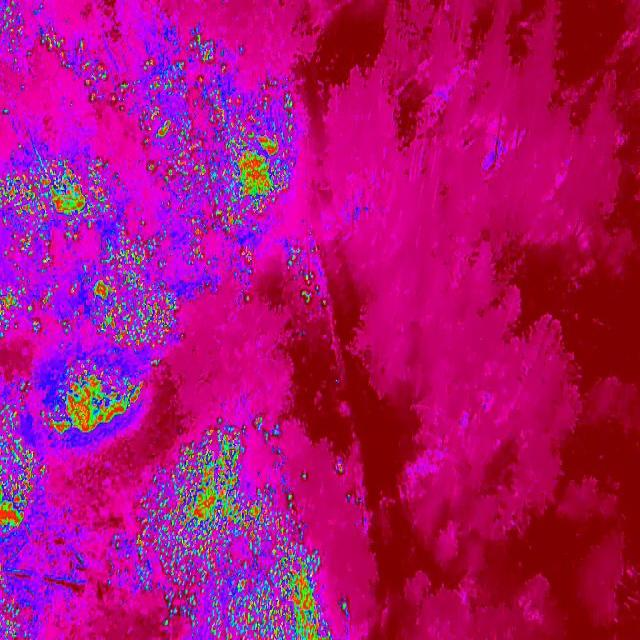fire: (131, 419, 333, 640), (125, 27, 298, 237), (86, 231, 185, 351), (0, 149, 123, 240), (40, 355, 163, 435), (0, 378, 49, 544), (0, 241, 80, 341), (42, 26, 125, 110), (186, 237, 255, 306), (282, 232, 334, 312), (0, 562, 23, 640), (0, 0, 22, 59), (110, 533, 132, 559), (338, 596, 351, 620), (333, 460, 346, 476)
